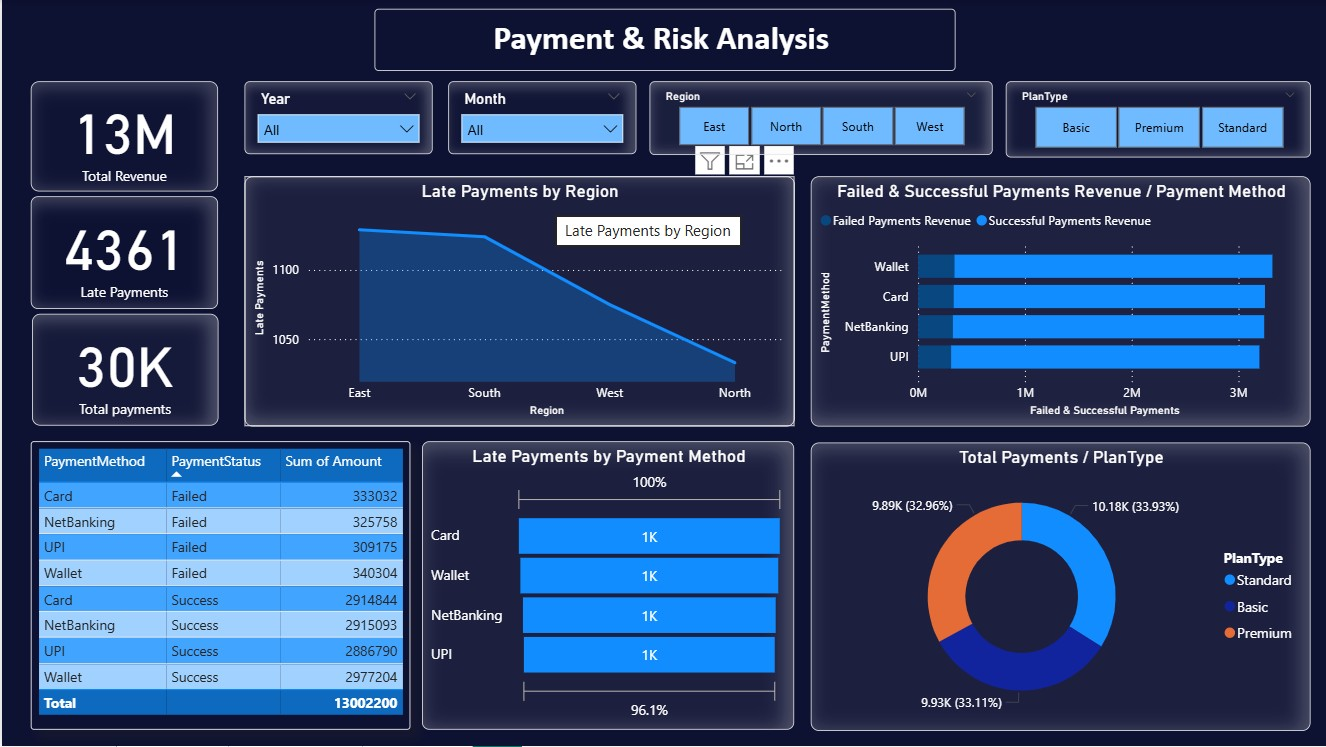

What the dashboard file says about the page in this screenshot:
{"tool":"powerbi","page":{"name":"Payment","canvas":[1280,720],"ordinal":2},"visuals":[{"type":"tableEx","fields":{"Values":["payments.PaymentMethod","payments.PaymentStatus","Sum(payments.Amount)"]},"box":[27.7,425.9,366.8,278.7],"z":0},{"type":"textbox","box":[359.5,8.4,561,60.3],"z":1000},{"type":"areaChart","fields":{"Category":["customers.Region"],"Y":["payments.Late Payments"]},"box":[234,170.1,530.8,241.3],"z":2000},{"type":"card","fields":{"Values":["payments.Late Payments"]},"box":[27.6,189.4,181.2,108.8],"z":3000},{"type":"card","fields":{"Values":["payments.Total payments"]},"box":[28.8,302.9,180,108.2],"z":4000},{"type":"card","fields":{"Values":["payments.Total Revenue"]},"box":[27.6,78.2,181.2,106.5],"z":5000},{"type":"slicer","fields":{"Values":["DateTable.Year"]},"box":[234.5,79,181.9,70.2],"z":6000},{"type":"slicer","fields":{"Values":["DateTable.Month"]},"box":[430.2,79,181.9,70.2],"z":7000},{"type":"slicer","fields":{"Values":["customers.Region"]},"box":[624.6,79,331.1,71.5],"z":8000},{"type":"slicer","fields":{"Values":["plans.PlanType"]},"box":[968.2,79,294.7,74],"z":9000},{"type":"funnel","title":"Late Payments by Payment Method","fields":{"Y":["payments.Late Payments"],"Category":["payments.PaymentMethod"]},"box":[405.4,425.9,359.5,278.7],"z":10000},{"type":"barChart","title":"Failed & Successful Payments Revenue / Payment Method","fields":{"Category":["payments.PaymentMethod"],"Y":["payments.Failed Payments Revenue","payments.Successful Payments Revenue"]},"box":[780.6,170.1,482.6,241.3],"z":11000},{"type":"donutChart","title":"Total Payments / PlanType","fields":{"Category":["plans.PlanType"],"Y":["CountNonNull(payments.PaymentID)"]},"box":[780.6,427.1,482.6,278.7],"z":12000},{"type":"image","box":[411.2,8.8,51.9,51.9],"z":12001}]}

Visuals, with their boxes in screenshot pixels (x1, y1, x2, y2), scaled from the page's 1280x720 canvas onto the 1326x747 screenshot:
tableEx - payments.PaymentMethod x payments.PaymentStatus: (29,442,409,731)
textbox: (372,9,954,71)
areaChart - customers.Region x payments.Late Payments: (242,176,792,427)
card - payments.Late Payments: (29,197,216,309)
card - payments.Total payments: (30,314,216,427)
card - payments.Total Revenue: (29,81,216,192)
slicer - DateTable.Year: (243,82,431,155)
slicer - DateTable.Month: (446,82,634,155)
slicer - customers.Region: (647,82,990,156)
slicer - plans.PlanType: (1003,82,1308,159)
"Late Payments by Payment Method" funnel: (420,442,792,731)
"Failed & Successful Payments Revenue / Payment Method" barChart: (809,176,1309,427)
"Total Payments / PlanType" donutChart: (809,443,1309,732)
image: (426,9,480,63)
